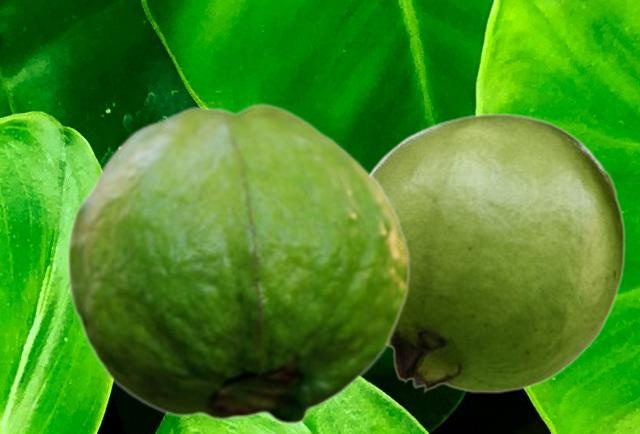guava: (66, 102, 409, 425), (370, 112, 625, 392)
